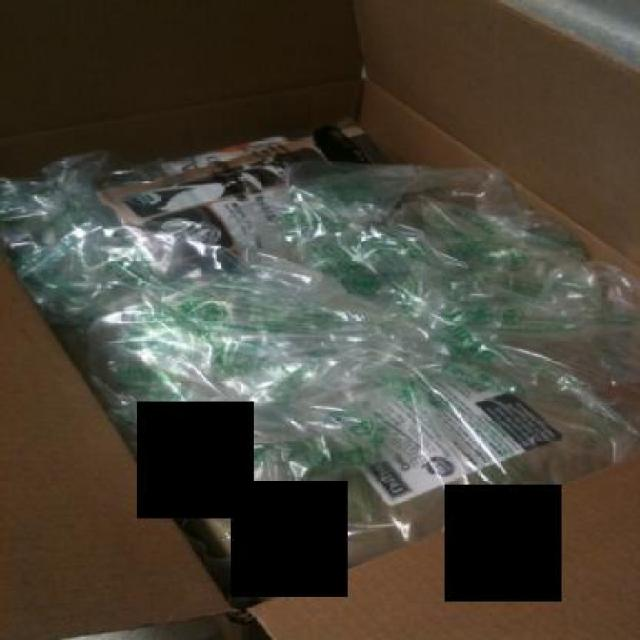plastic bag: (0, 128, 637, 609)
